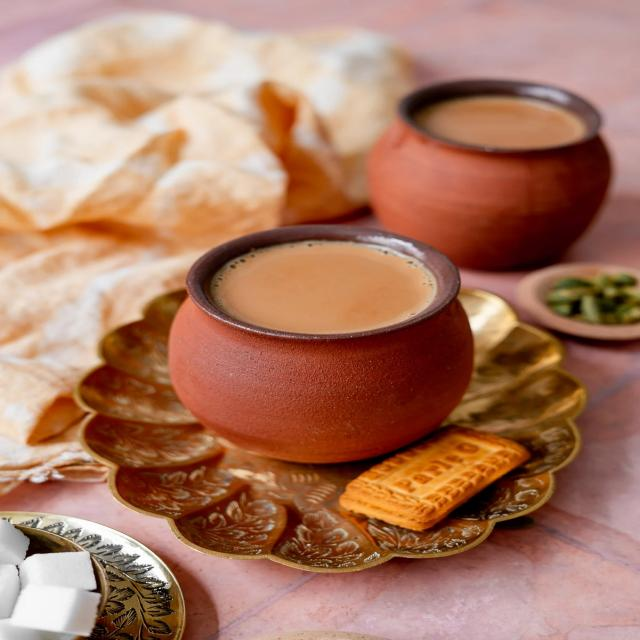Chai: (201, 236, 432, 339), (425, 90, 585, 147)
